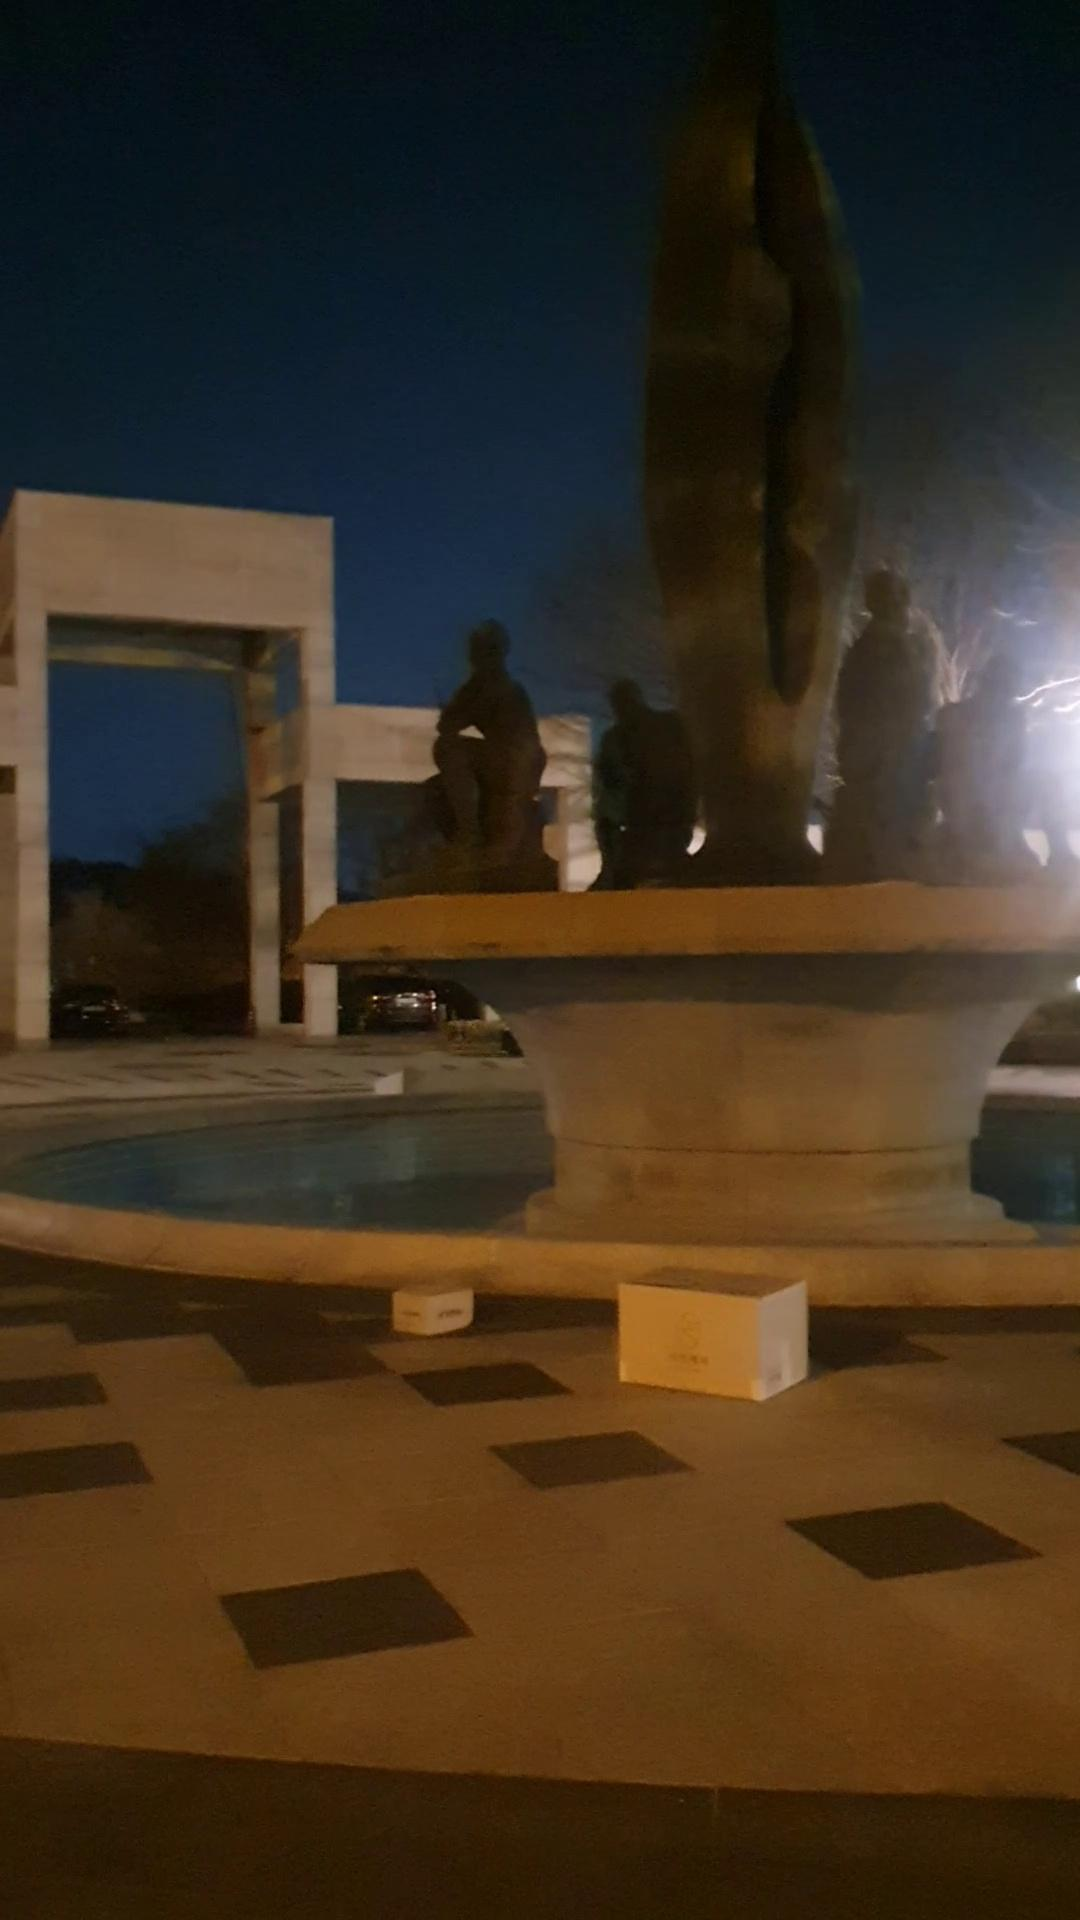Box: (593, 1238, 829, 1437), (368, 1250, 510, 1370)
